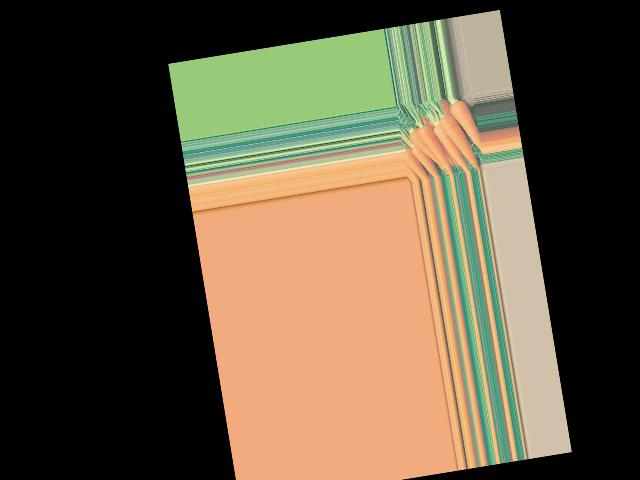carrot: (407, 139, 437, 180)
